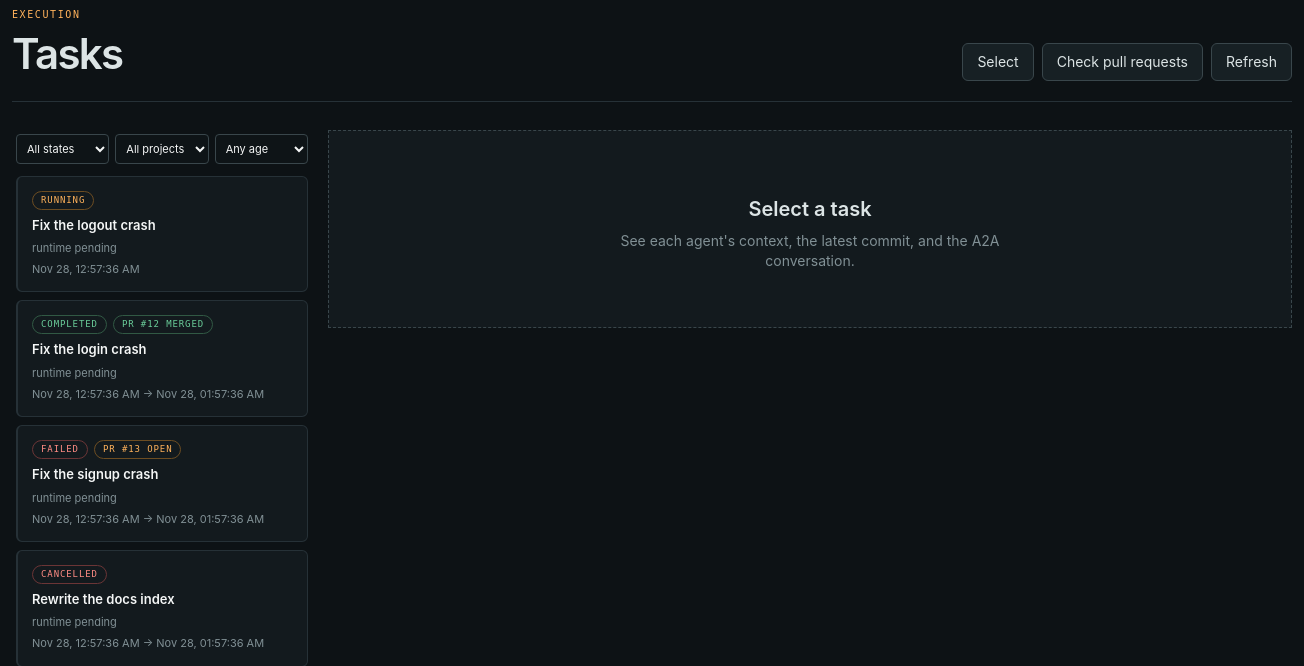
Test: TasksView pull requests › checks them when it opens and when asked, and shows each task's
The image size is (1304, 666).
expect the button that starts with "completed" shows "PR #12 merged": met, box [16,300,308,417]
expect the button that starts with "failed" shows "PR #13 open": met, box [16,425,308,542]
Click the button "Check pull requests". click: click(1122, 62)
box: [1042,42,1203,80]
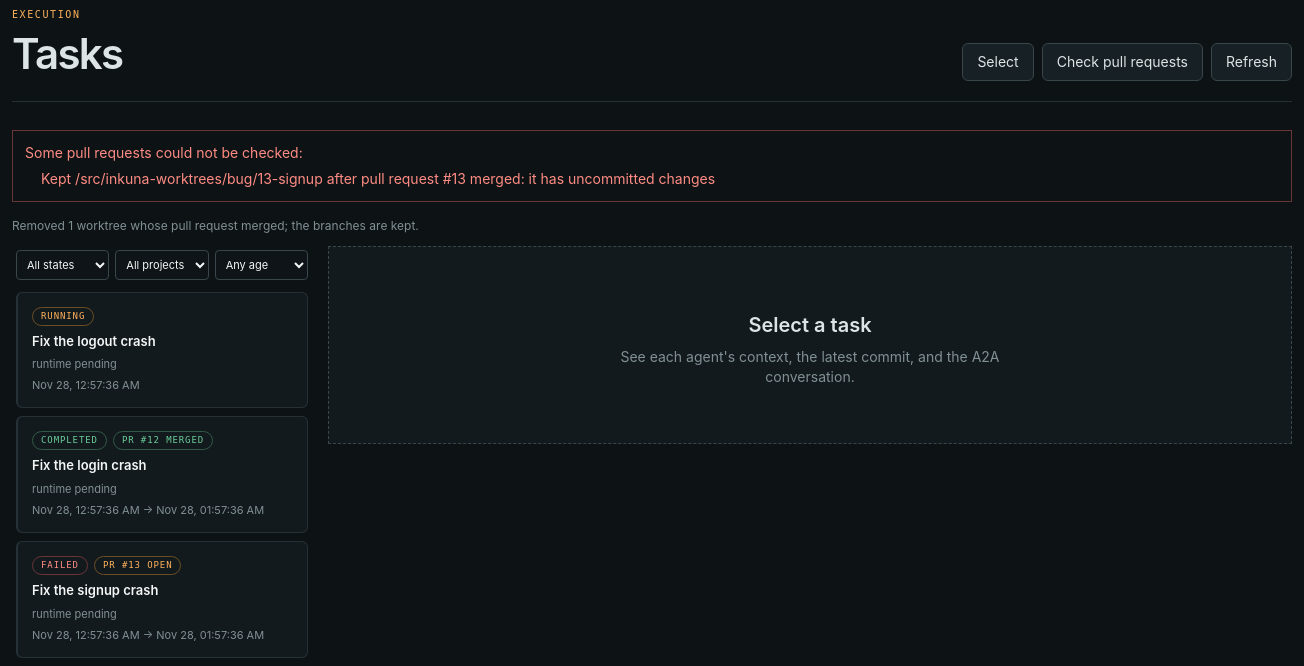
expect the message that starts with "Some pull requests could not be checked:" shows "after pull request #13 merged: it has uncommitted changes": met, box [41,170,715,186]
expect the text "Removed 1 worktree whose pull request merged; the branches are kept." is shown: met, box [12,218,419,232]
